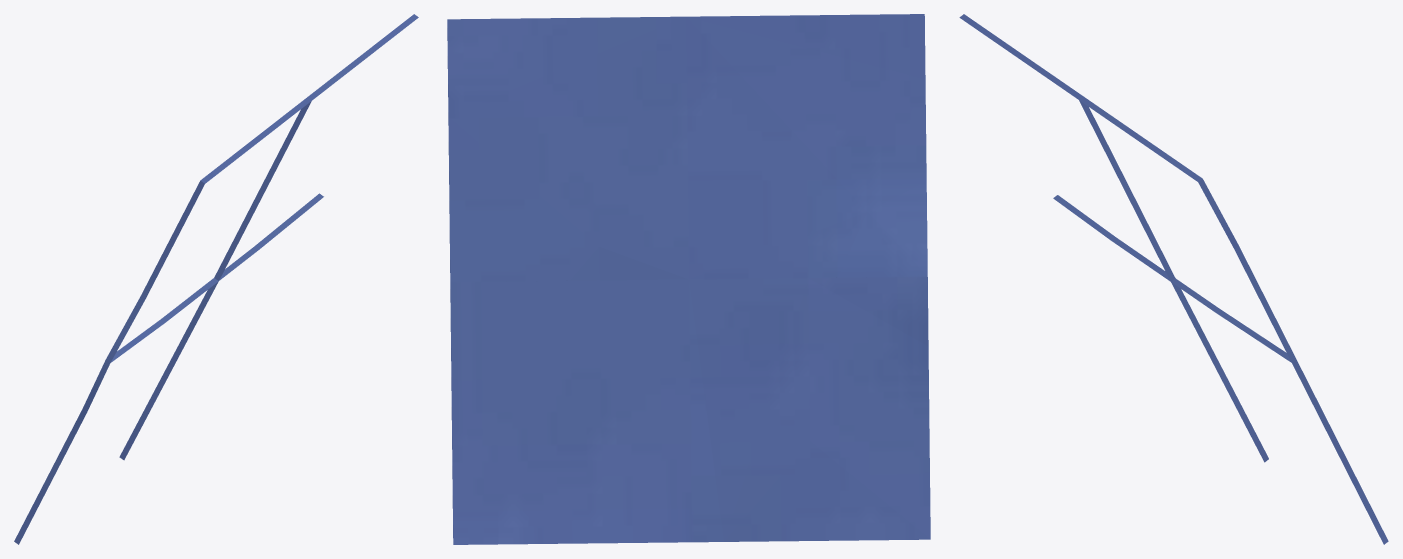
The picture shows the model from 3 angles, left to right: view 1: azimuth 30°, elevation 25°; view 2: azimuth 150°, elevation 25°; view 3: azimuth 270°, elevation 25°; orthographic projection. The views are drawn at different scales.
Size of the model in its own units: 9812 by 8869 by 8335.
1 material, 1 textured.
